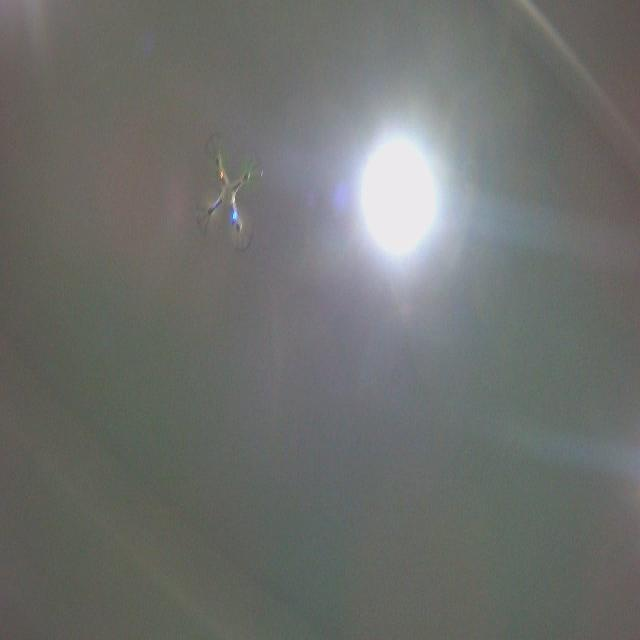drone: (194, 127, 267, 258)
